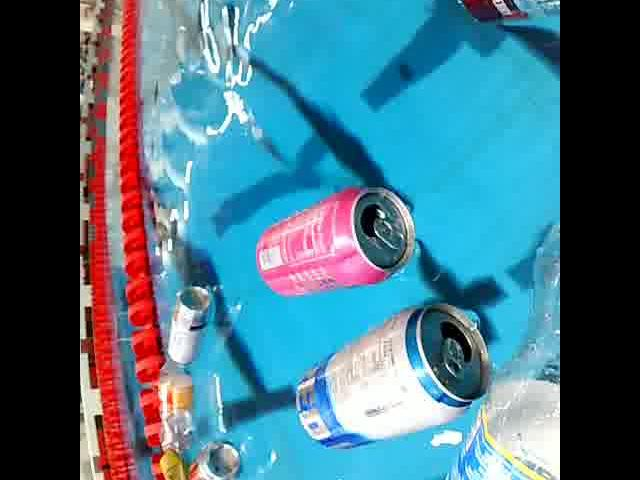Bottle: (432, 218, 560, 480), (156, 344, 196, 460)
Can: (293, 296, 493, 463), (254, 174, 420, 304), (166, 280, 214, 374), (437, 0, 560, 34), (188, 436, 246, 480), (159, 449, 203, 480)
